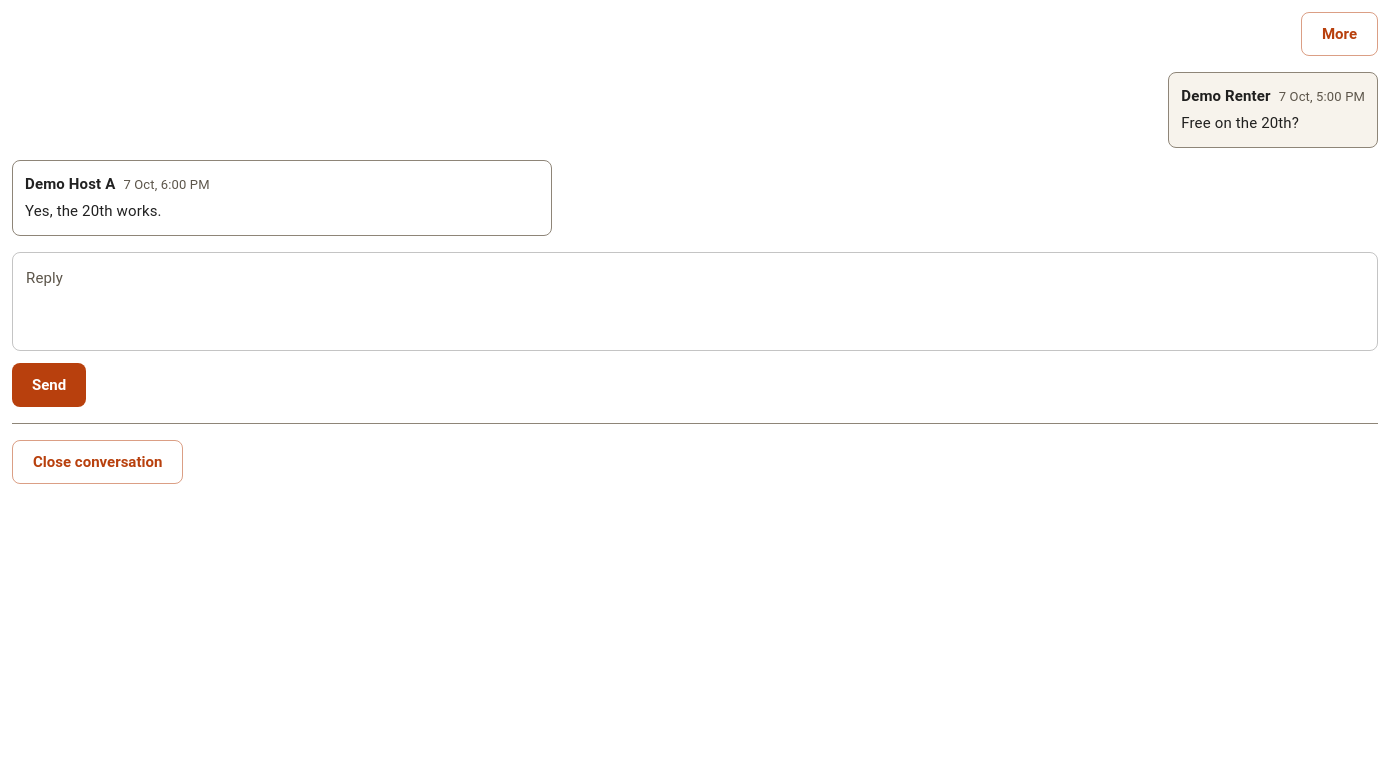
Test case: sends a reply, appends it and clears the box
Step 1. Type "  Great, thanks  " into the text box labelled "Reply" → (695, 302), box 26,268 -> 1364,334
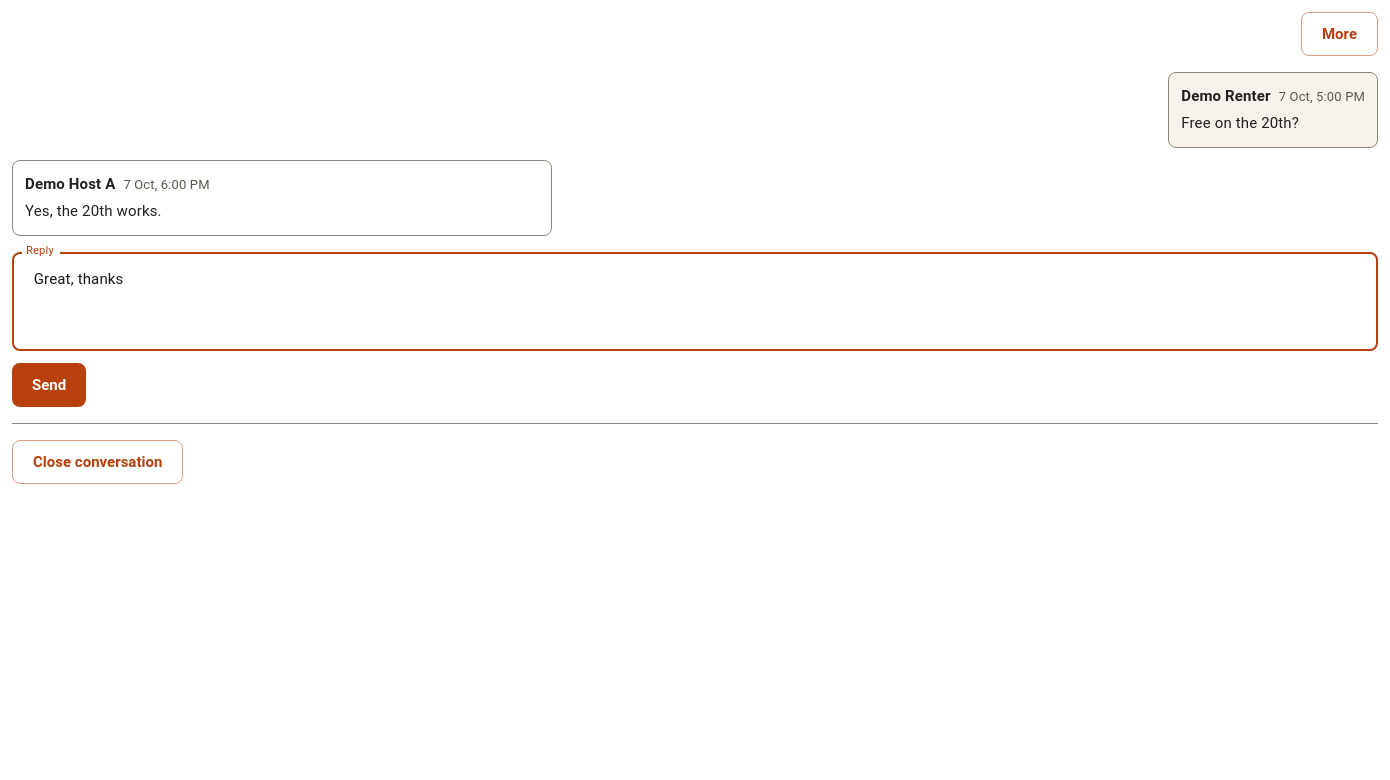
Step 2. Click the button "Send" → click(49, 385), box 12,363 -> 86,407
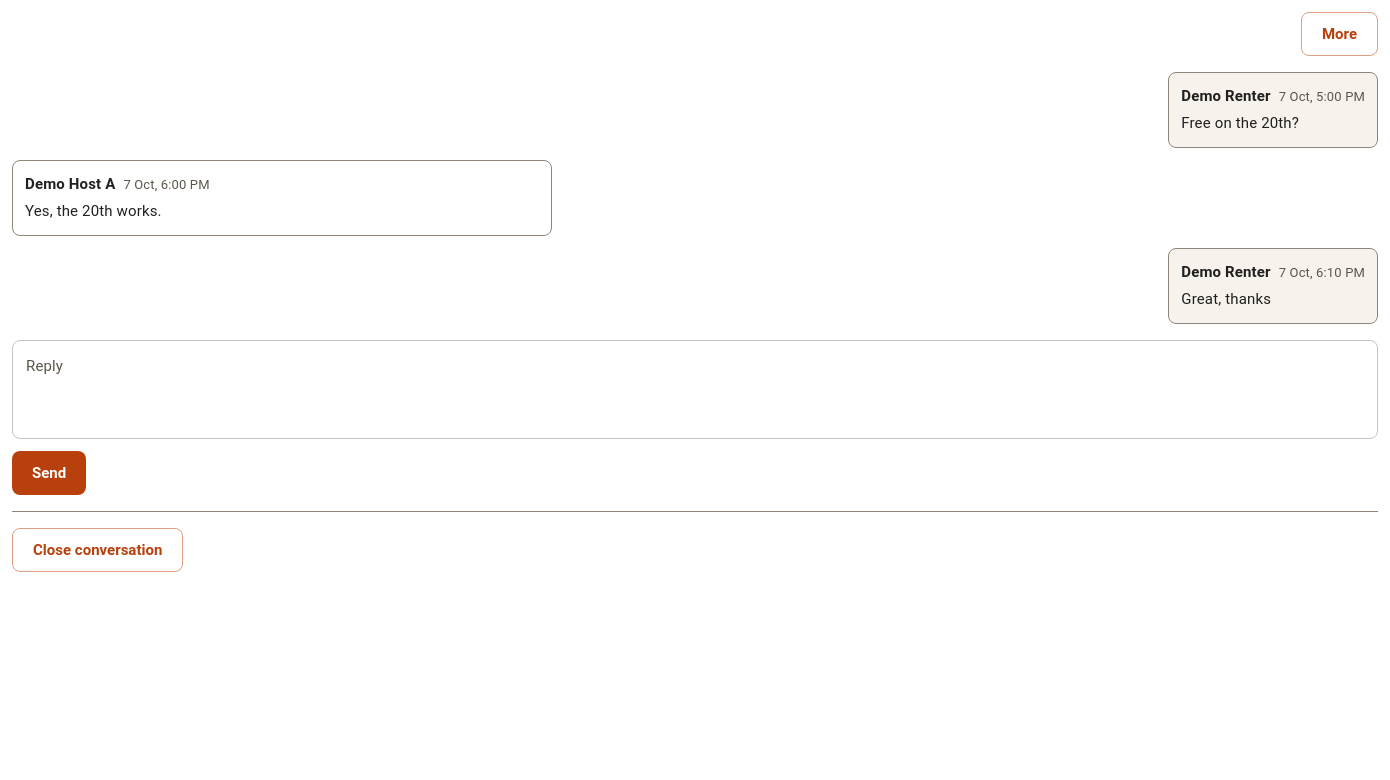
Check: the number of list items is 3, box 1168,72 -> 1378,148; 12,160 -> 552,236; 1168,248 -> 1378,324
Check: the text box labelled "Reply" is empty, box 26,356 -> 1364,422
